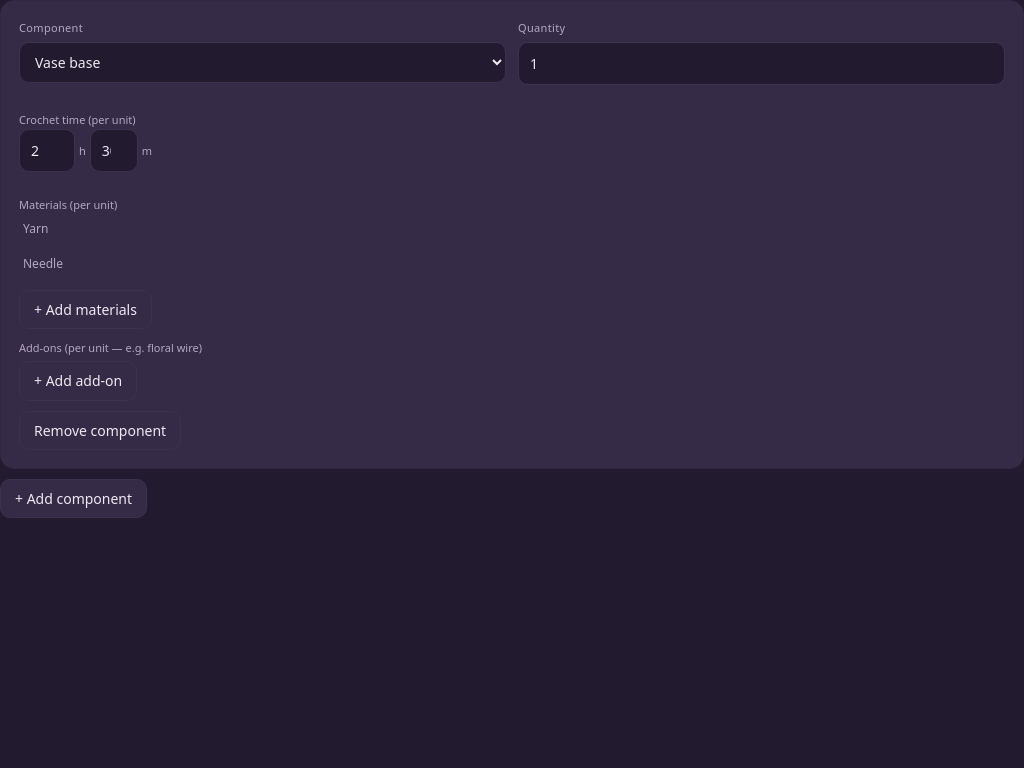
Test: ComponentsFields › + Add materials appears only when a component has none yet, and adds the two fixed kinds
This screenshot has width=1024, height=768.
Click the button "+ Add materials" at (85, 310), box [19,290,152,329]
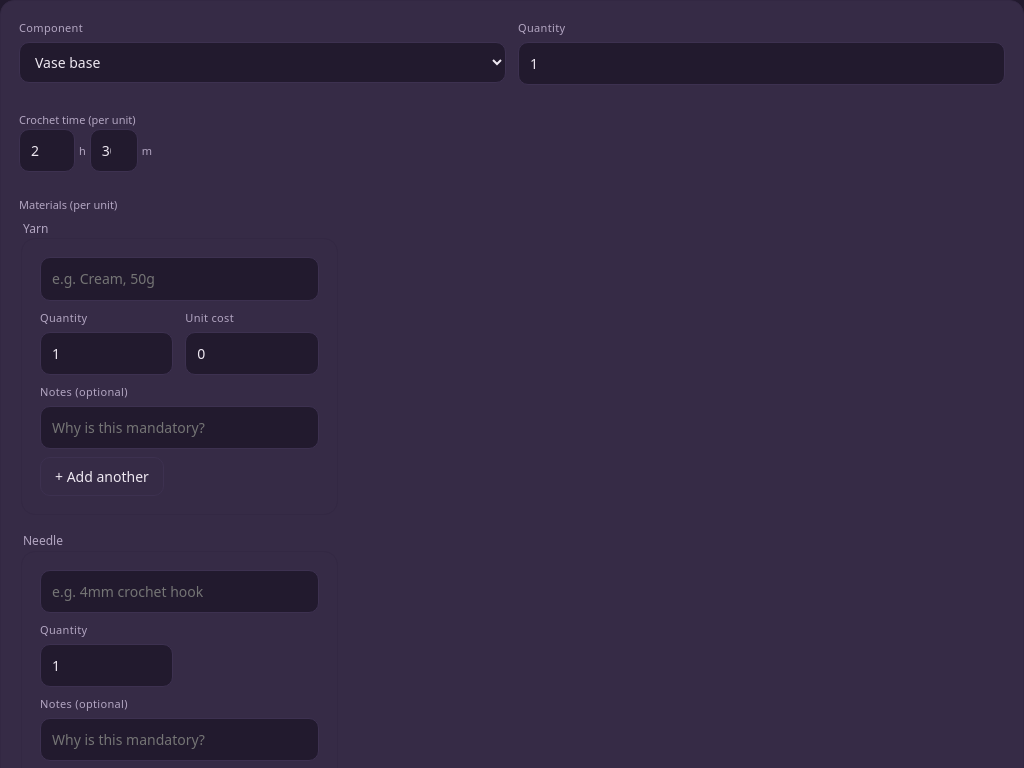
Expected: the text "Yarn" is shown, [21,219,50,238]
Expected: the button "+ Add materials" is gone
